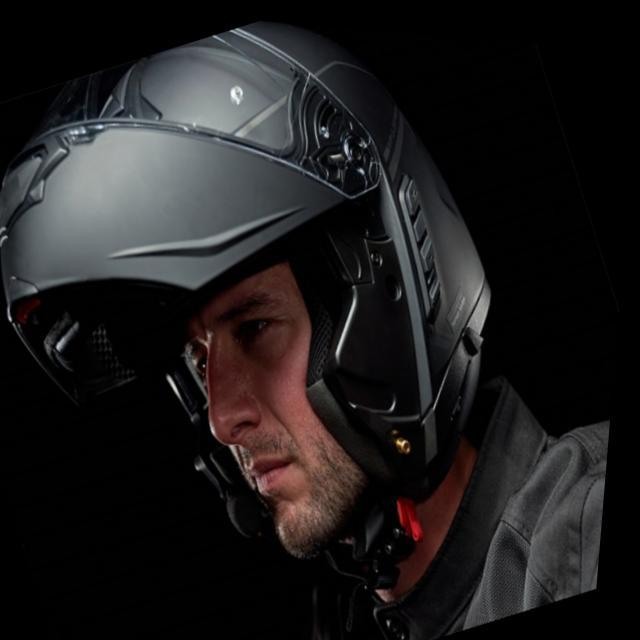Helmet: (0, 20, 514, 596)
